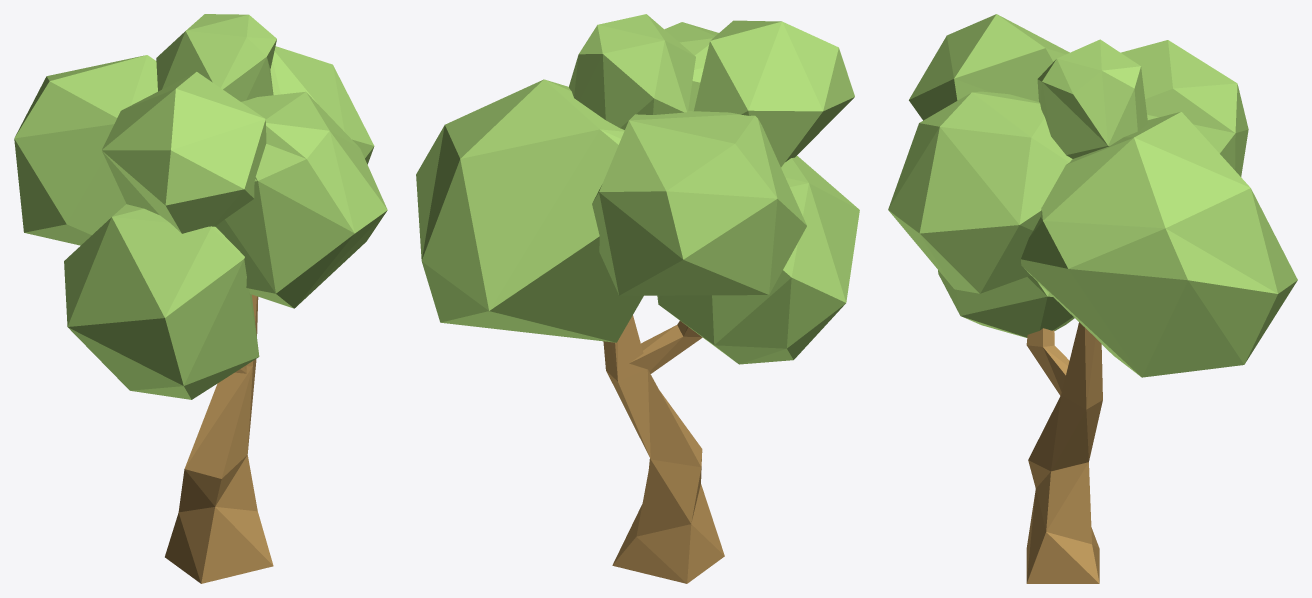
File: ArvorePequena.fbx
3 renders of one model, left to right at view 1: azimuth 30°, elevation 25°; view 2: azimuth 150°, elevation 25°; view 3: azimuth 270°, elevation 25°, orthographic. The views are drawn at different scales.
Visible parts, largest first — view 1: arvore_pequena; view 2: arvore_pequena; view 3: arvore_pequena.
Part boxes in pixels (x1,y1,x2,y2): arvore_pequena: [14, 14, 387, 583]; arvore_pequena: [416, 14, 859, 583]; arvore_pequena: [888, 14, 1297, 583].
Size of the model in its own units: 7.52 by 10.89 by 7.78.
